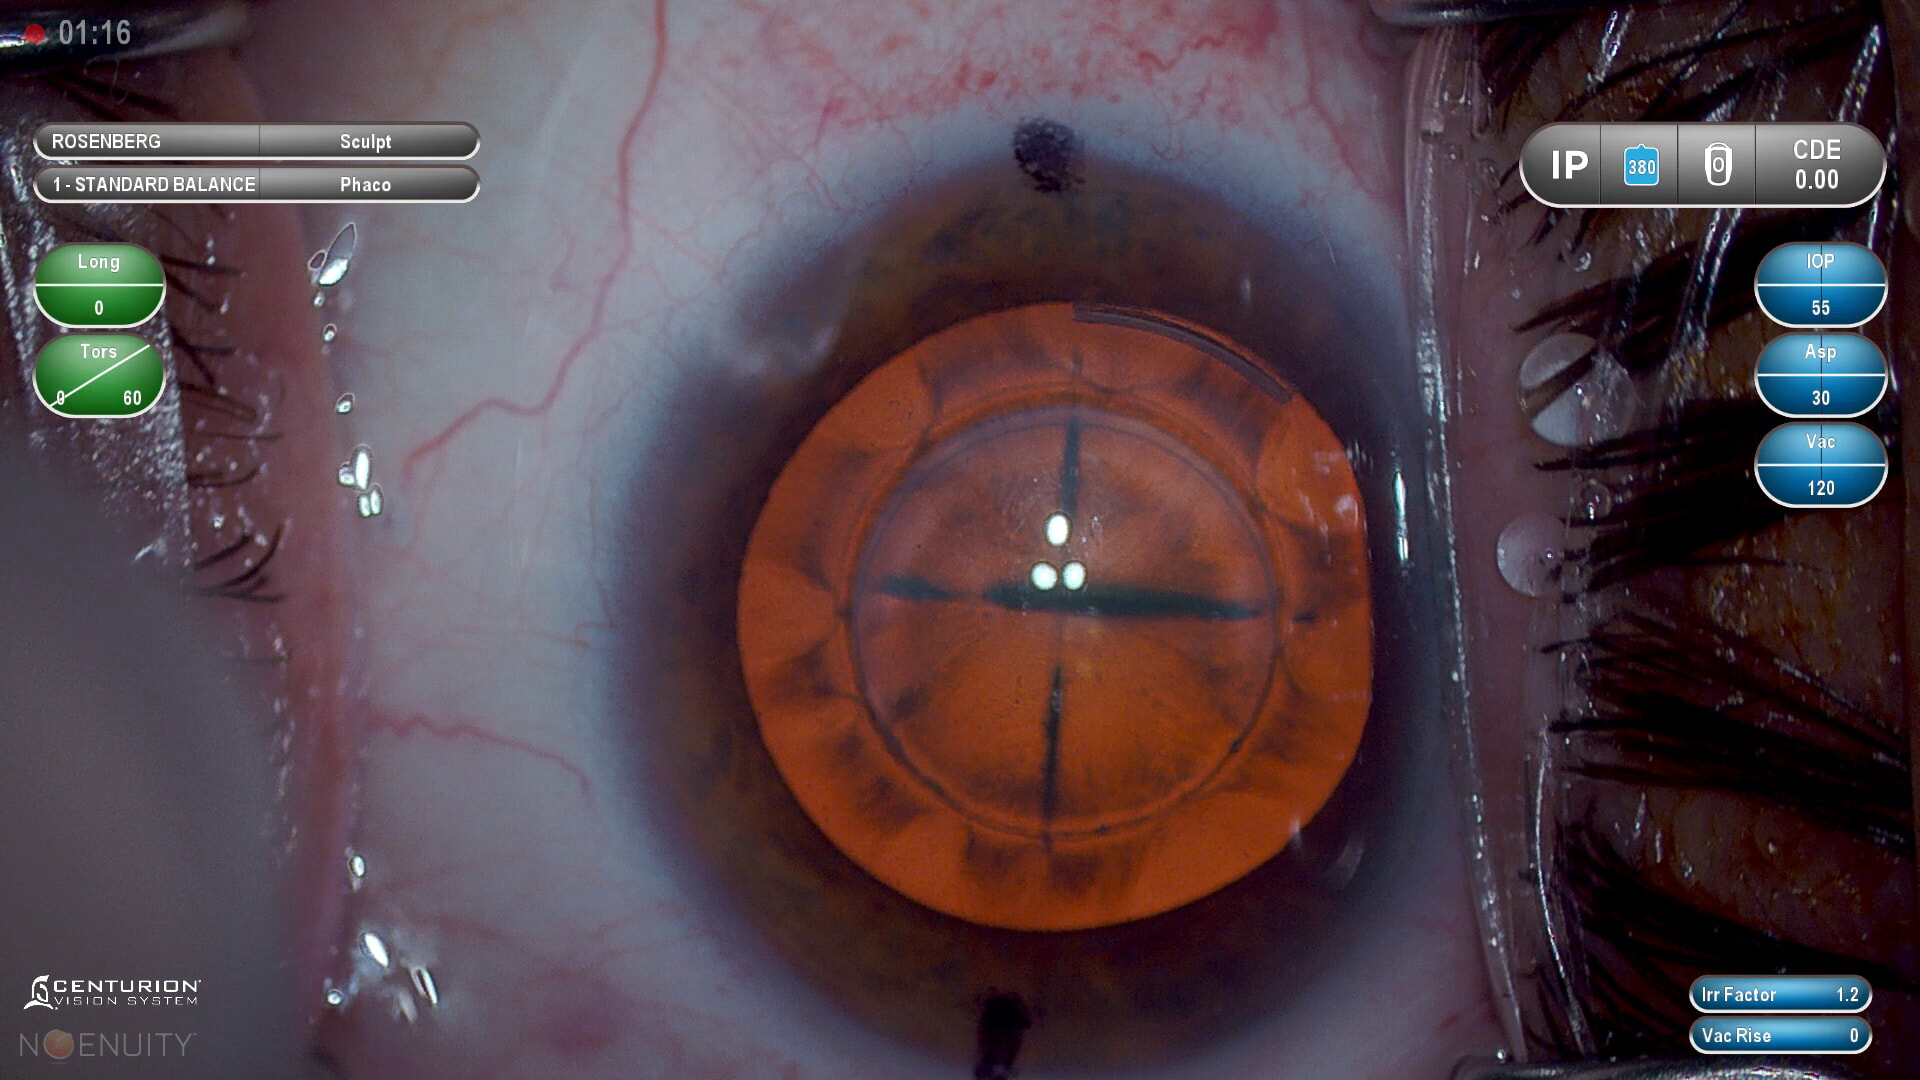iris: (622, 172, 1423, 1080)
pupil: (742, 304, 1391, 933)
